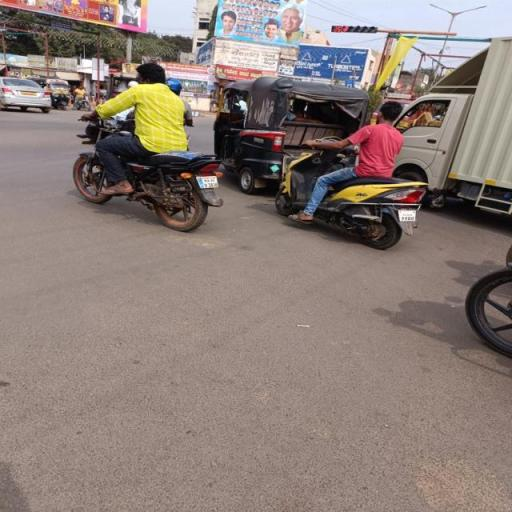using mobile: (139, 77, 153, 86)
